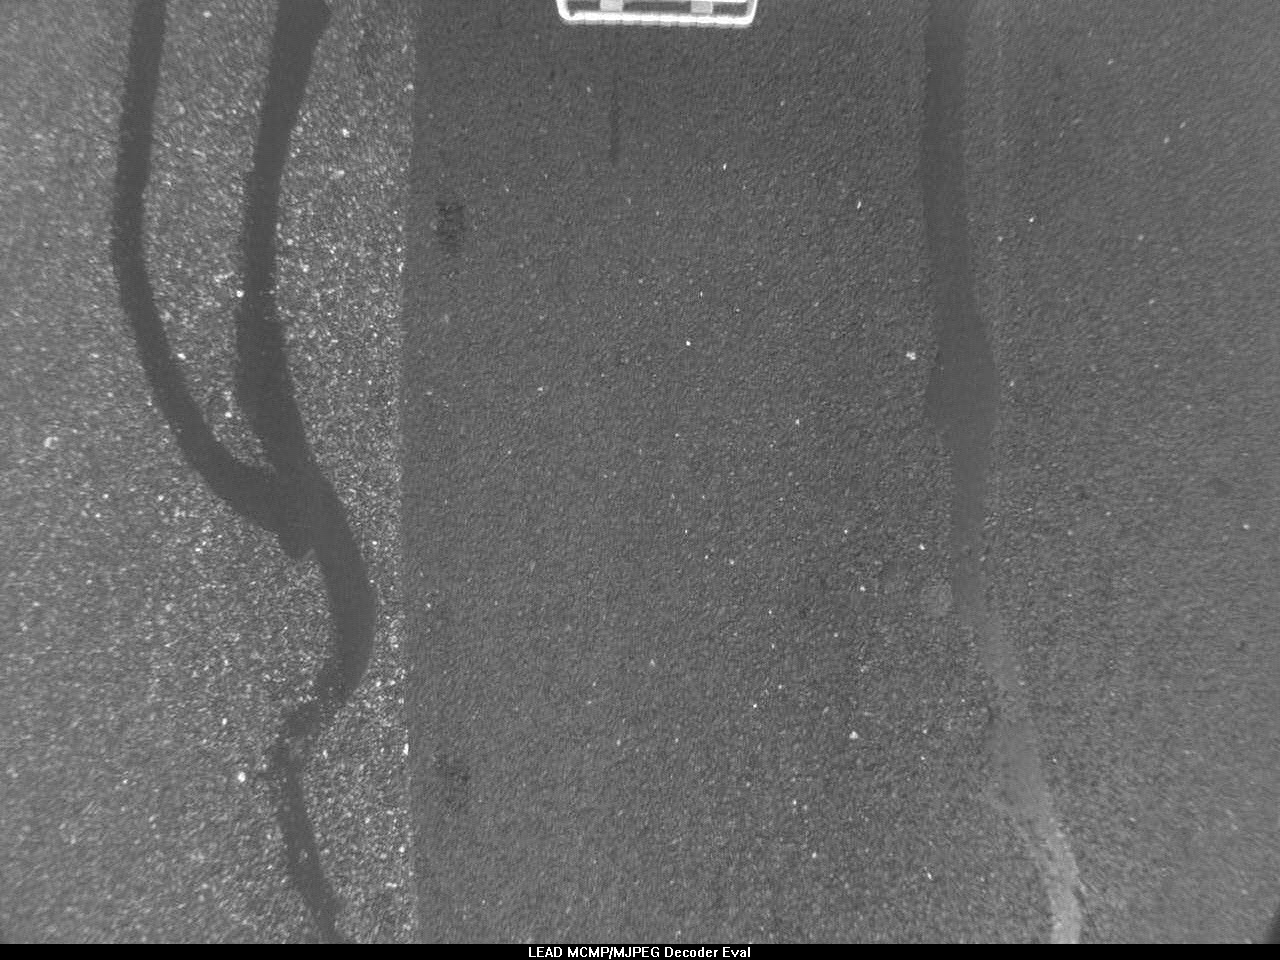sealed: (91, 2, 400, 921)
